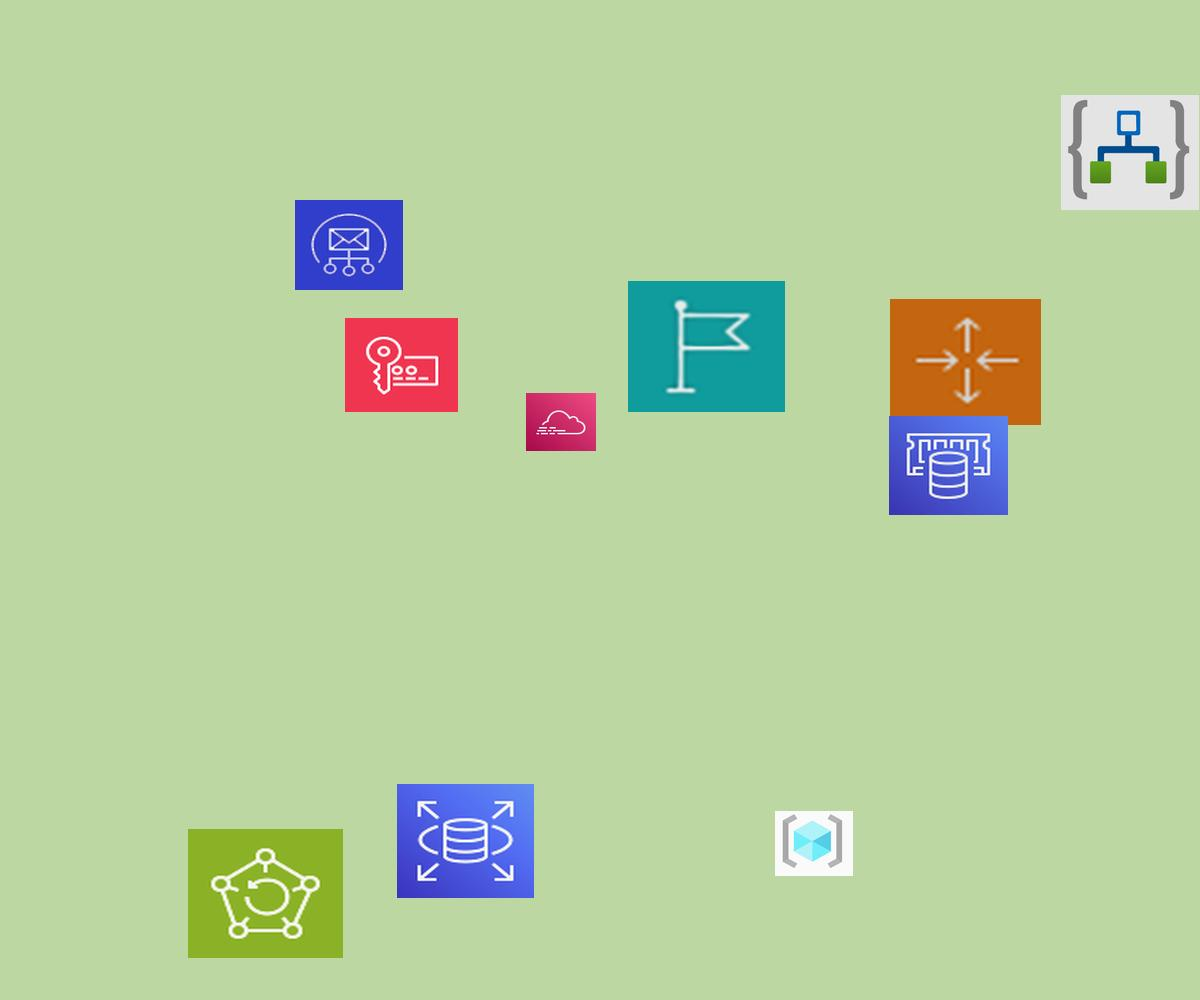AWS-Backup: (188, 829, 343, 958)
AWS-CloudTrail: (526, 393, 596, 451)
AWS-ElastiCache: (889, 416, 1008, 515)
AWS-Key-Management-Service: (345, 318, 458, 412)
AWS-RDS: (397, 784, 534, 898)
AWS-Region: (628, 281, 785, 412)
AWS-Scaling-group: (890, 299, 1041, 425)
AWS-Simple-Email-Service: (295, 200, 403, 290)
Azure_integration-204-Logic-Apps: (1061, 95, 1199, 210)
Azure_resource_group: (775, 811, 853, 876)
